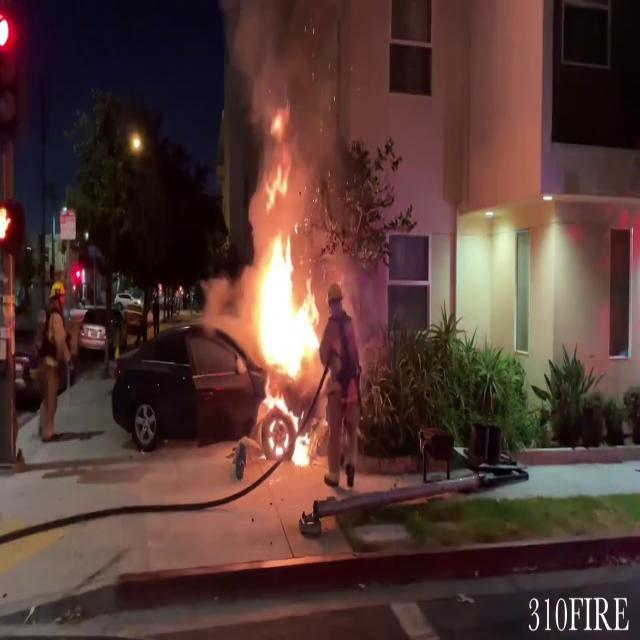Fire: (244, 225, 331, 468)
Smoke: (222, 5, 360, 201)
